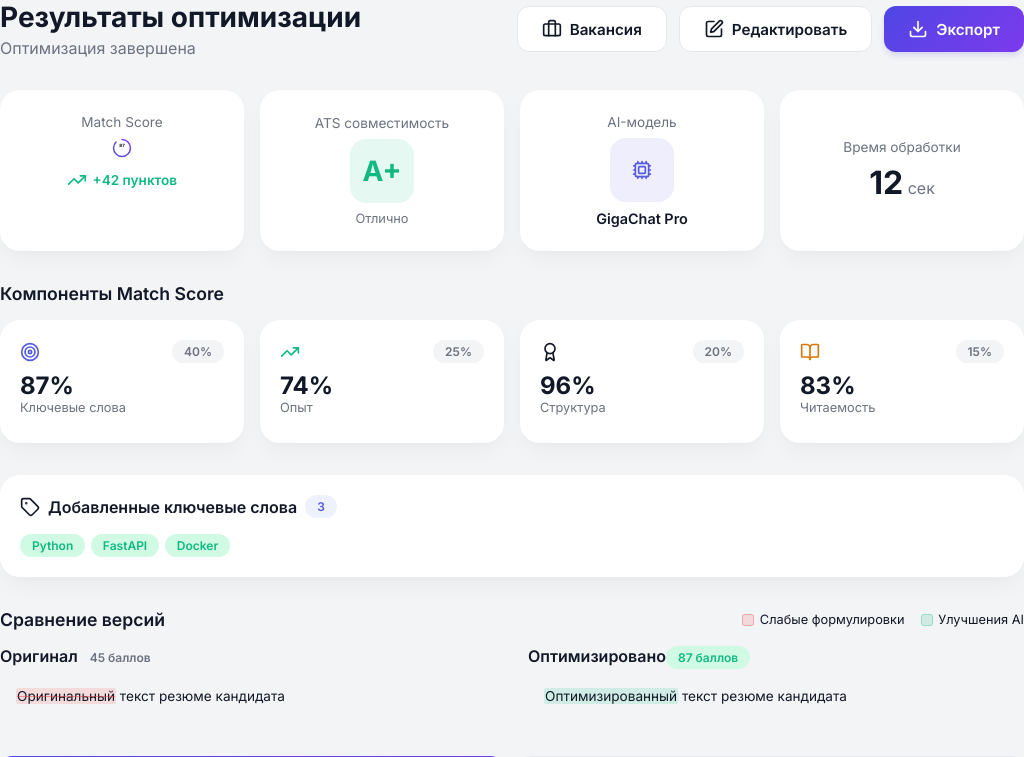
Test: ResultsPage vacancy modal › shows company name
Click the button "Вакансия": [592, 29] box x1=517 y1=6 x2=667 y2=52
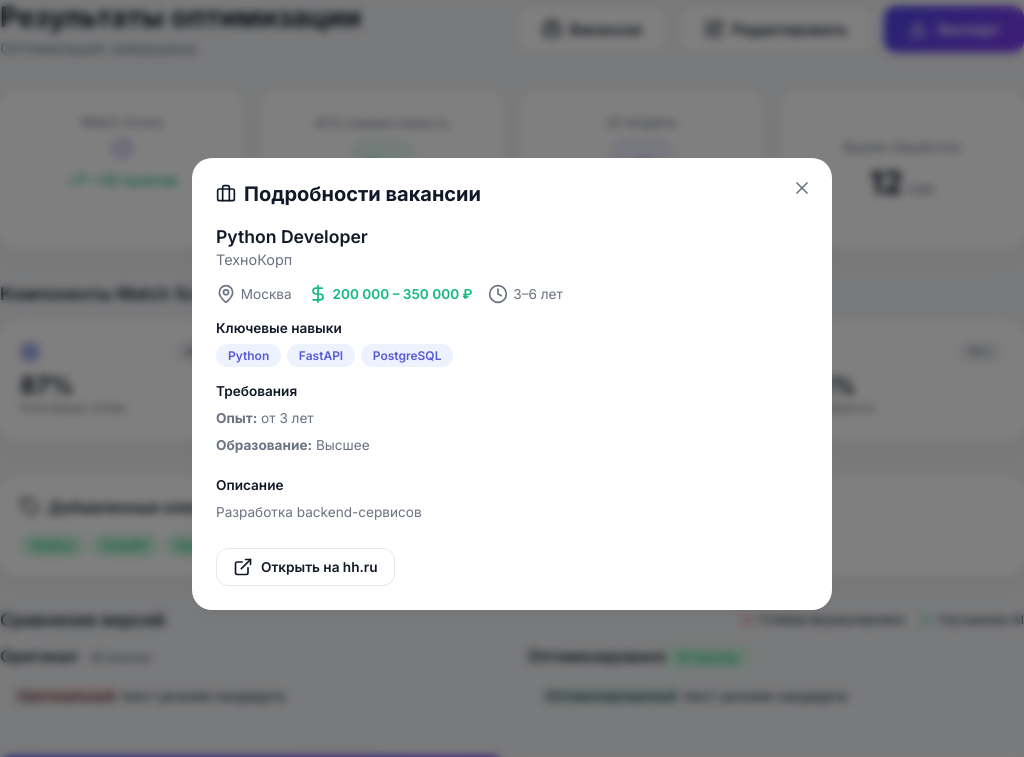
Check: the text "ТехноКорп" is shown, box x1=216 y1=251 x2=292 y2=268
